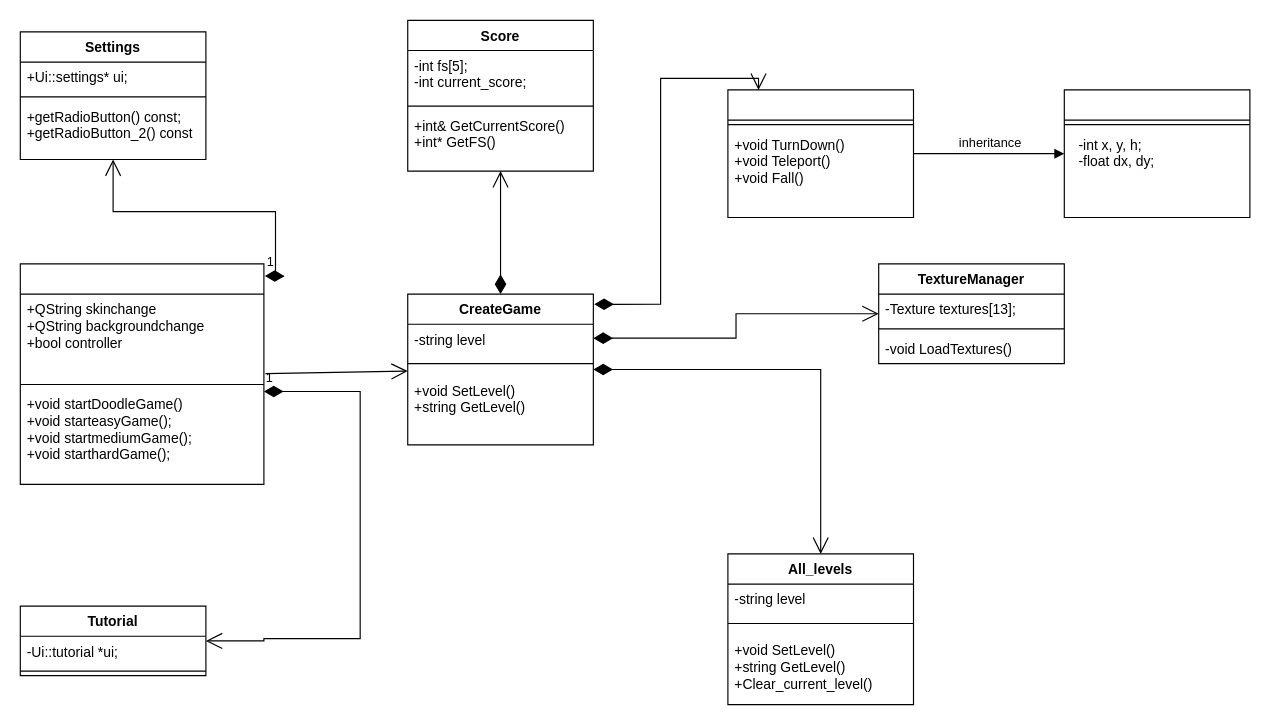
This 1270x728 diagram has some shape labels left out. The shapes that lost their labels are listed below. From the top down, each one's box as (x1, y1, x2, y2) in pixels, then its label:
(727, 89, 913, 217): Doodle_mech
(1063, 89, 1250, 217): coordinates
(19, 263, 264, 484): MainWindow
